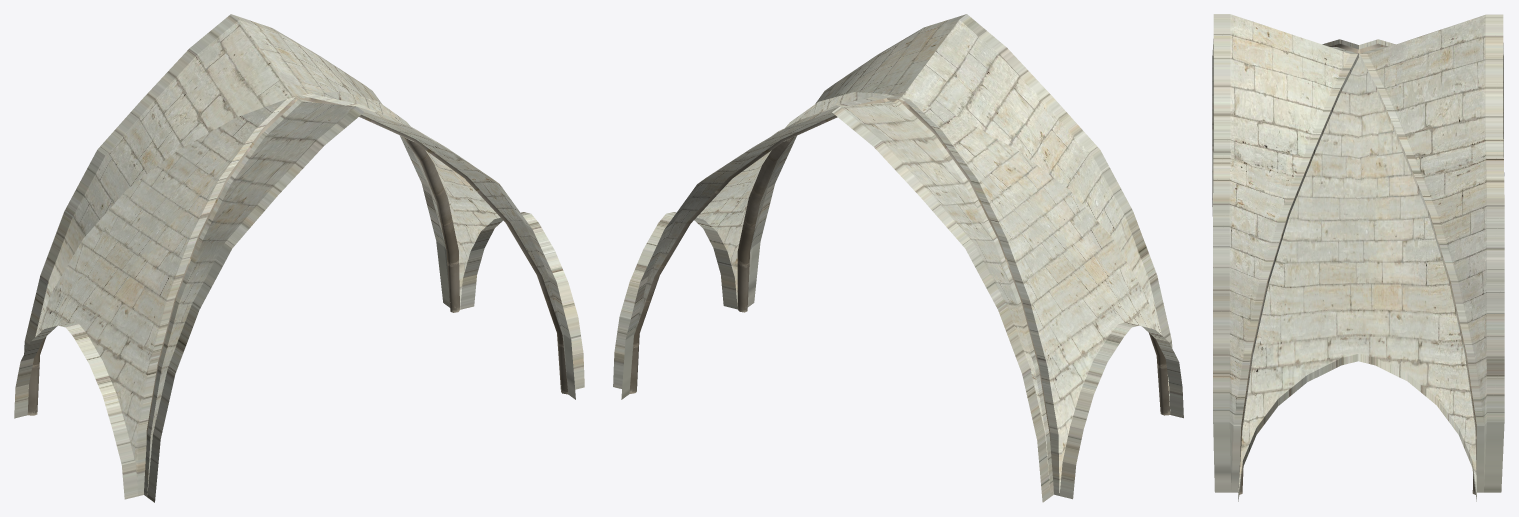
File: Cath_roof_1x2.FBX
The picture shows the model from 3 angles, left to right: view 1: azimuth 30°, elevation 25°; view 2: azimuth 150°, elevation 25°; view 3: azimuth 270°, elevation 25°; orthographic projection. The views are drawn at different scales.
Parts seen in each view (by area): view 1: Roof_wall1, RoofNerv1; view 2: Roof_wall1, RoofNerv1; view 3: Roof_wall1, RoofNerv1.
Boxes of the visible parts, left/top/right/bottom form: Roof_wall1: left=14, top=14, right=584, bottom=502; RoofNerv1: left=27, top=97, right=568, bottom=495; Roof_wall1: left=613, top=14, right=1183, bottom=502; RoofNerv1: left=629, top=98, right=1170, bottom=440; Roof_wall1: left=1212, top=14, right=1504, bottom=501; RoofNerv1: left=1239, top=43, right=1476, bottom=494.
Bounding box in the file's own units: 798 × 402 × 557.
